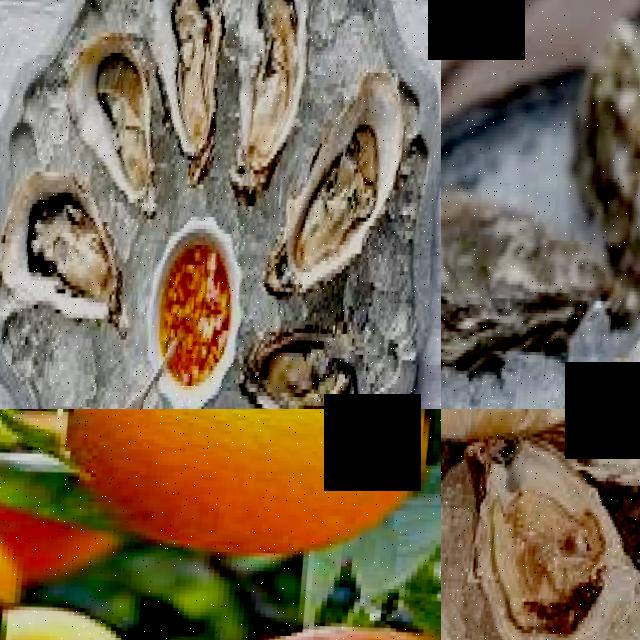orange: (76, 409, 441, 555)
oysters: (471, 440, 636, 640), (441, 180, 601, 381), (286, 59, 410, 300), (0, 165, 136, 324), (61, 22, 165, 203), (567, 22, 640, 249), (230, 0, 317, 189), (146, 0, 233, 166), (246, 319, 386, 409)
